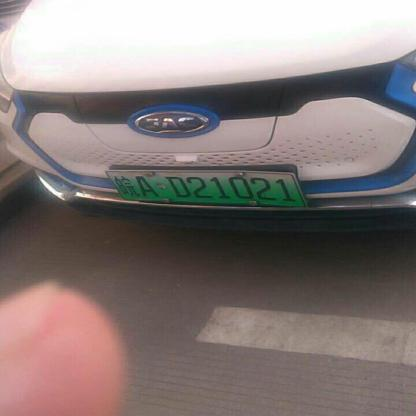lp: (106, 172, 303, 206)
